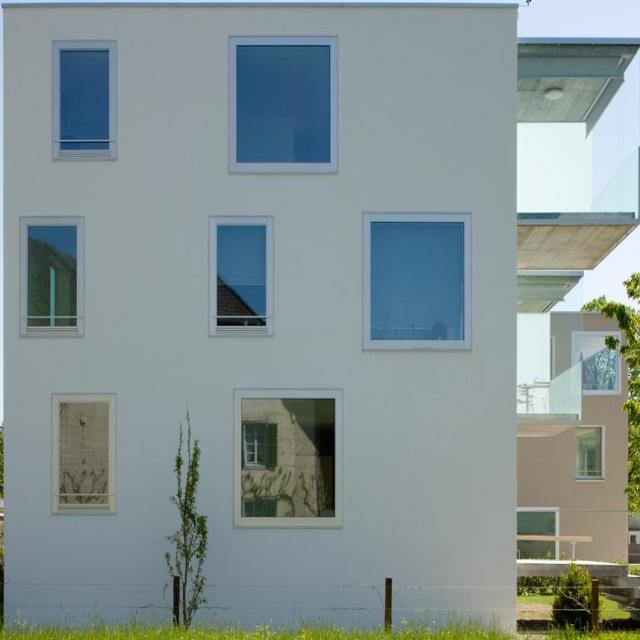window: (363, 212, 469, 353), (236, 389, 340, 526), (227, 34, 333, 167), (51, 43, 117, 157), (211, 216, 273, 335), (21, 222, 83, 334), (54, 403, 110, 513)
